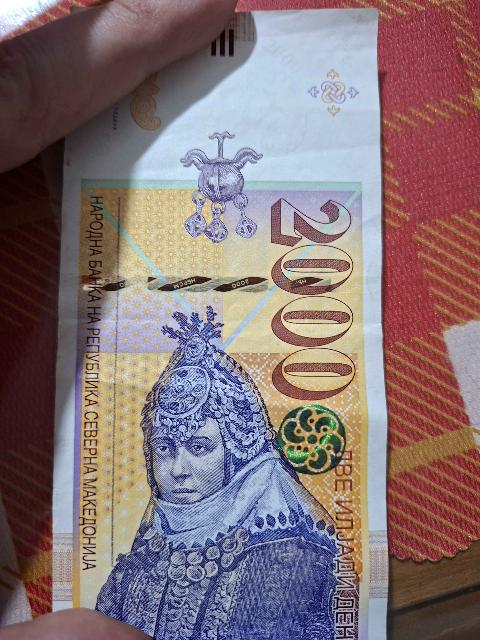2000_note: (54, 10, 389, 639)
